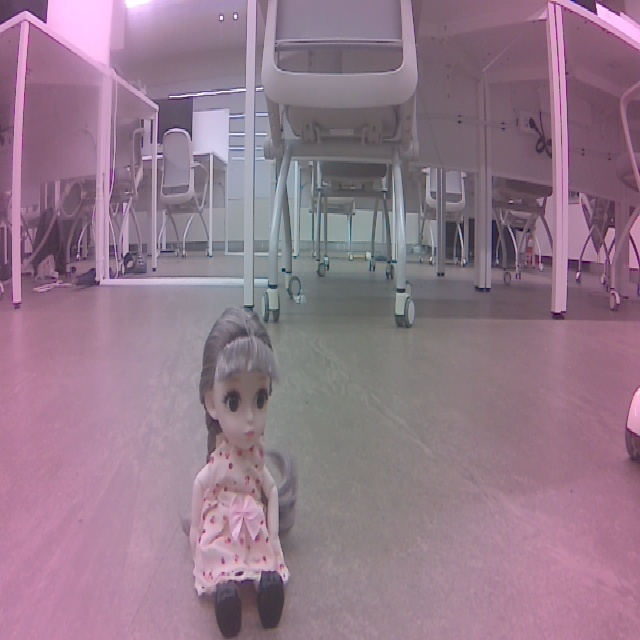장애물: (215, 284, 379, 579)
